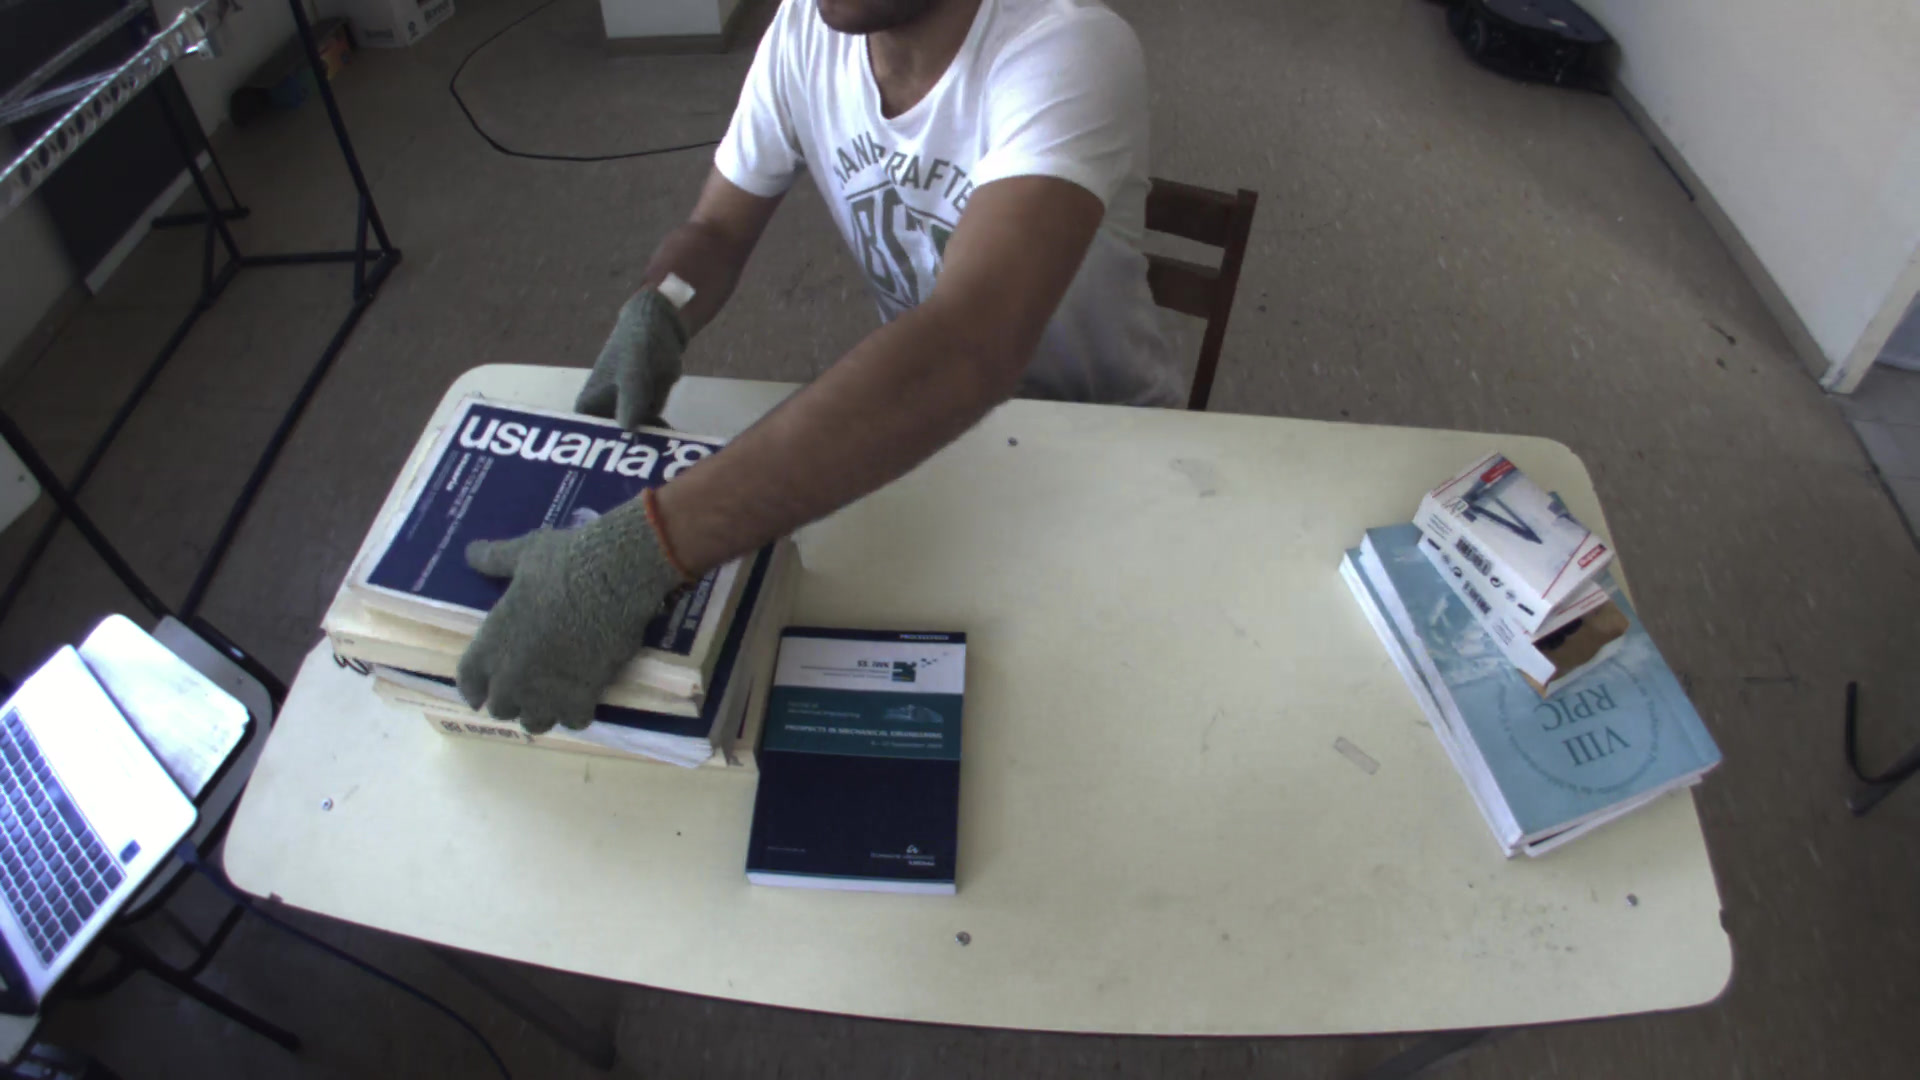hand: (438, 502, 667, 736), (564, 280, 688, 438)
